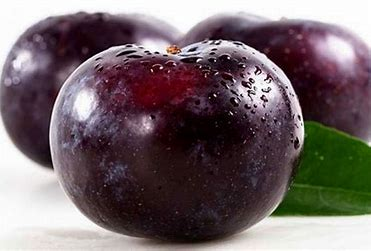plum_A: (48, 41, 305, 241)
